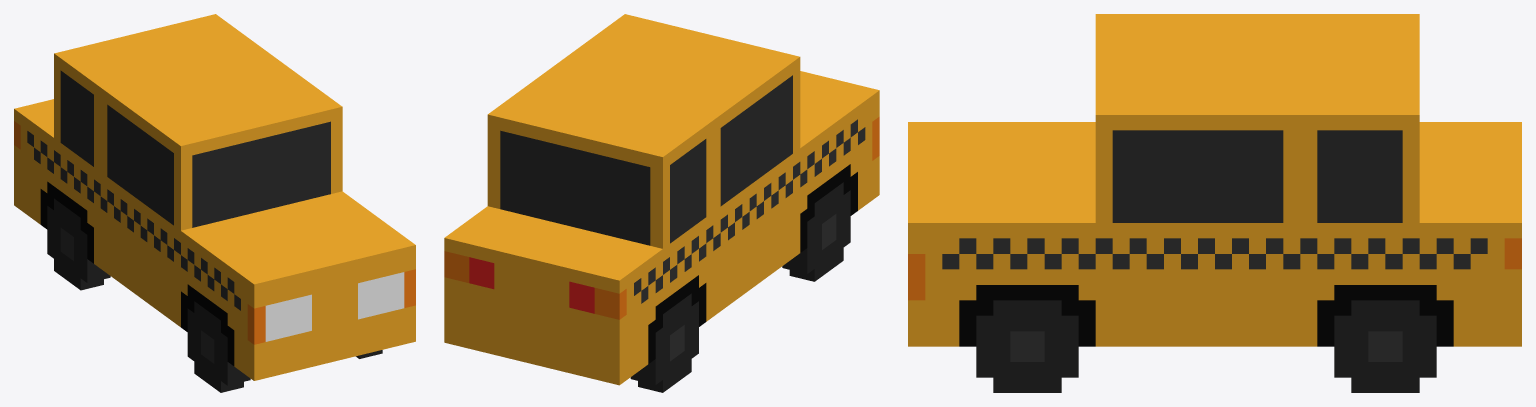
File: kit-voxel-taxi-nyc.glb
3 renders of one model, left to right at view 1: azimuth 30°, elevation 25°; view 2: azimuth 150°, elevation 25°; view 3: azimuth 270°, elevation 25°, orthographic. The views are drawn at different scales.
Visible parts, largest first — view 1: geometry_1; view 2: geometry_1; view 3: geometry_1.
Part boxes in pixels (x1=…): geometry_1: x1=14, y1=14, x2=415, y2=392; geometry_1: x1=444, y1=14, x2=879, y2=392; geometry_1: x1=908, y1=14, x2=1521, y2=392.
Size of the model in its own units: 1.4 by 1.8 by 3.6.
Materials: 1 (1 with a texture image).
